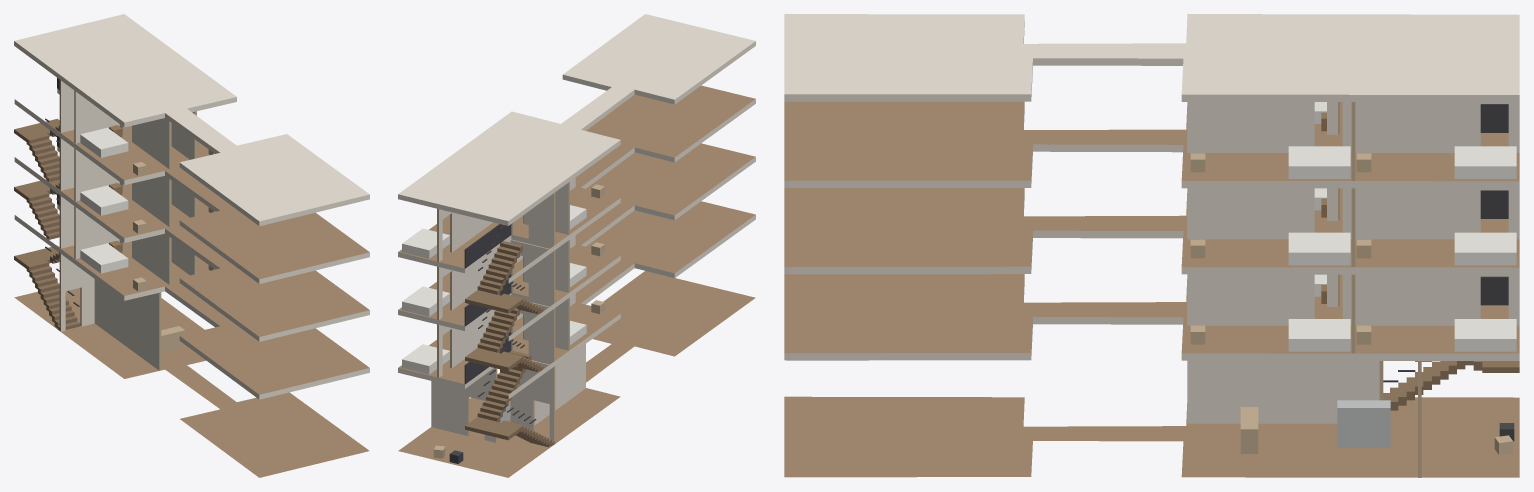
Rendered from interior.glb.
3 renders of one model, left to right at view 1: azimuth 30°, elevation 25°; view 2: azimuth 150°, elevation 25°; view 3: azimuth 270°, elevation 25°, orthographic. The views are drawn at different scales.
Visible parts, largest first — view 1: slabs, partitions, stair, coarse-s1, coarse-s2, coarse-s3, coarse-s0; view 2: slabs, partitions, stair, coarse-s1, coarse-s3, coarse-s2, coarse-s0; view 3: slabs, partitions, coarse-s2, coarse-s1, coarse-s3, stair, coarse-s0.
Part boxes in pixels (x1,y1,x2,y2): slabs: [14, 14, 369, 477]; partitions: [59, 80, 196, 370]; stair: [14, 78, 80, 330]; coarse-s1: [80, 240, 214, 291]; coarse-s2: [80, 183, 214, 233]; coarse-s3: [80, 125, 214, 175]; coarse-s0: [161, 326, 185, 352]; slabs: [398, 14, 755, 477]; partitions: [431, 177, 585, 443]; stair: [464, 224, 554, 447]; coarse-s1: [402, 300, 604, 374]; coarse-s3: [402, 184, 604, 258]; coarse-s2: [402, 242, 604, 316]; coarse-s0: [433, 401, 510, 463]; slabs: [784, 14, 1519, 477]; partitions: [1187, 102, 1519, 477]; coarse-s2: [1190, 188, 1516, 265]; coarse-s1: [1190, 274, 1516, 351]; coarse-s3: [1190, 102, 1516, 178]; stair: [1383, 104, 1519, 410]; coarse-s0: [1240, 400, 1514, 455].
Size of the model in its own units: 6.17 by 13.61 by 23.65.
